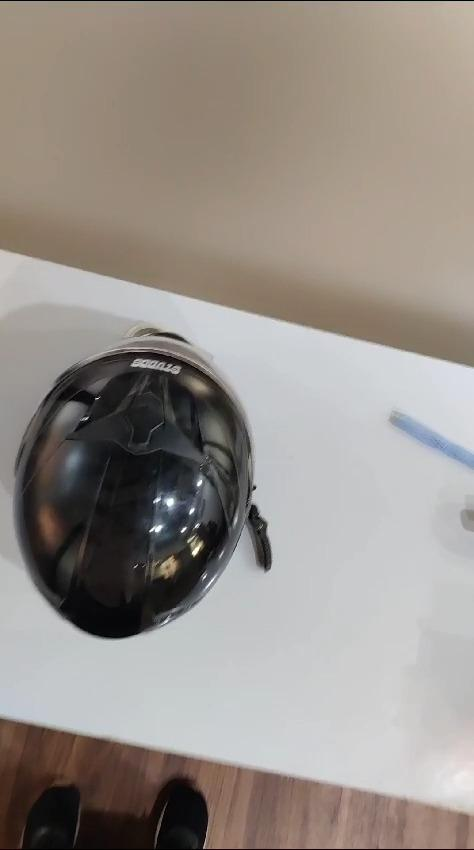Helmet: (20, 330, 255, 646)
